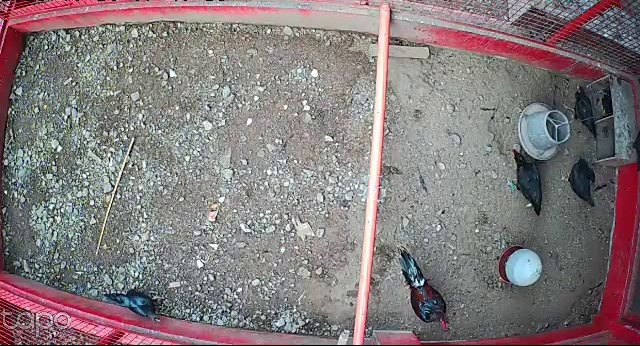Chicken: (100, 288, 170, 327), (505, 148, 544, 218), (559, 82, 600, 140), (559, 153, 596, 207)
Drinker: (498, 243, 544, 287)
Feeder: (518, 101, 571, 162)
Leg_Band_Green: (510, 183, 517, 191)
Rooster: (392, 245, 450, 332)
